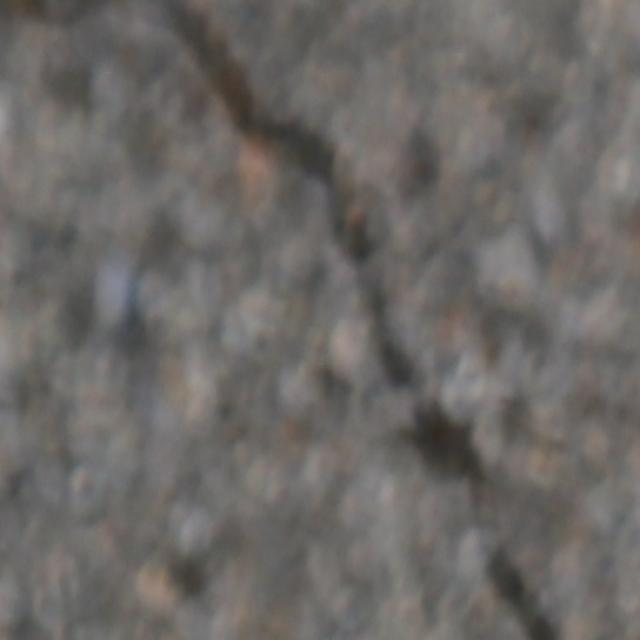crack: (143, 4, 562, 638)
